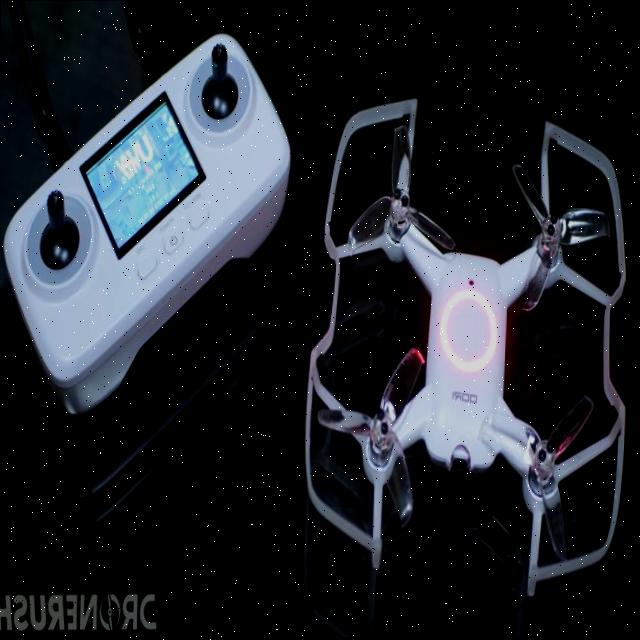drone: (284, 114, 627, 578)
